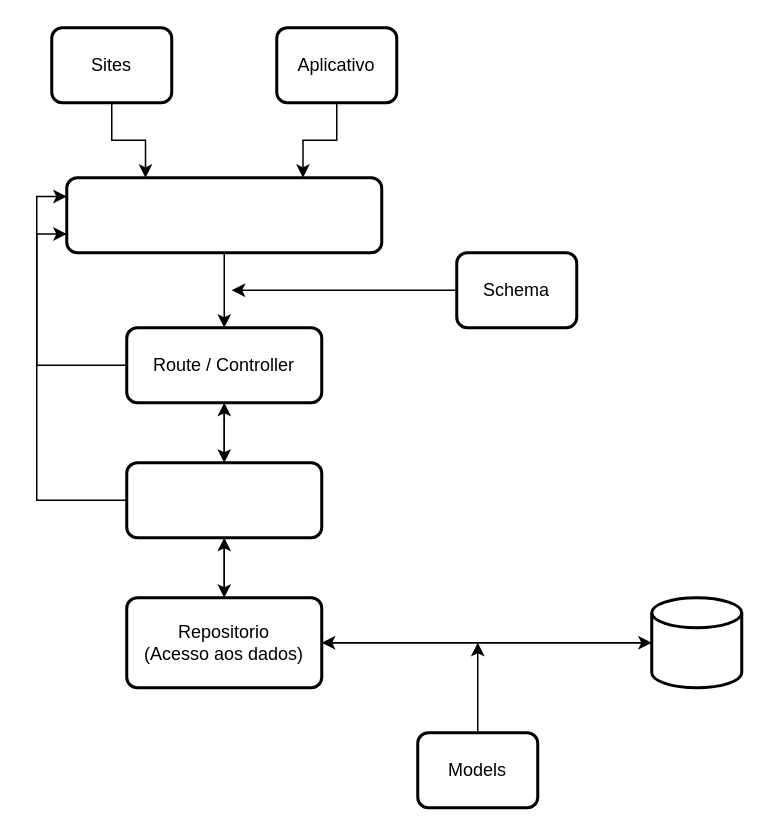
Some shapes in this 770 by 834 pixel diagram are drawn without their labels. The box of each missing label's shape, as (x1, y1, x2, y2) in pixels:
DB: (650, 596, 742, 688)
Request / Response: (64, 176, 382, 254)
Serviços (Lógica ed Negócios): (124, 460, 322, 538)
